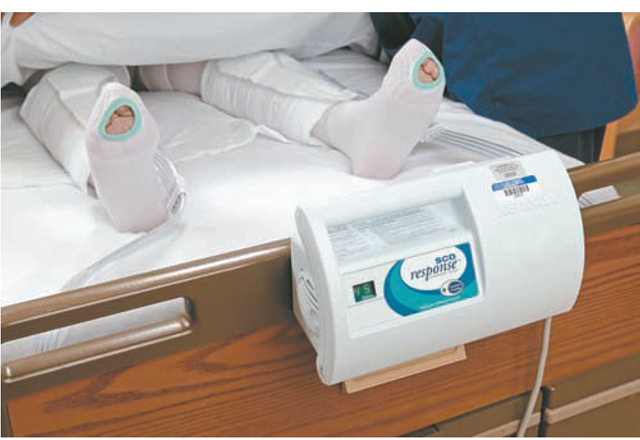foot_board: (1, 146, 640, 440)
hospital_bed: (1, 13, 638, 440)
patient: (1, 11, 446, 234)
sequential_compression: (291, 147, 586, 386)
